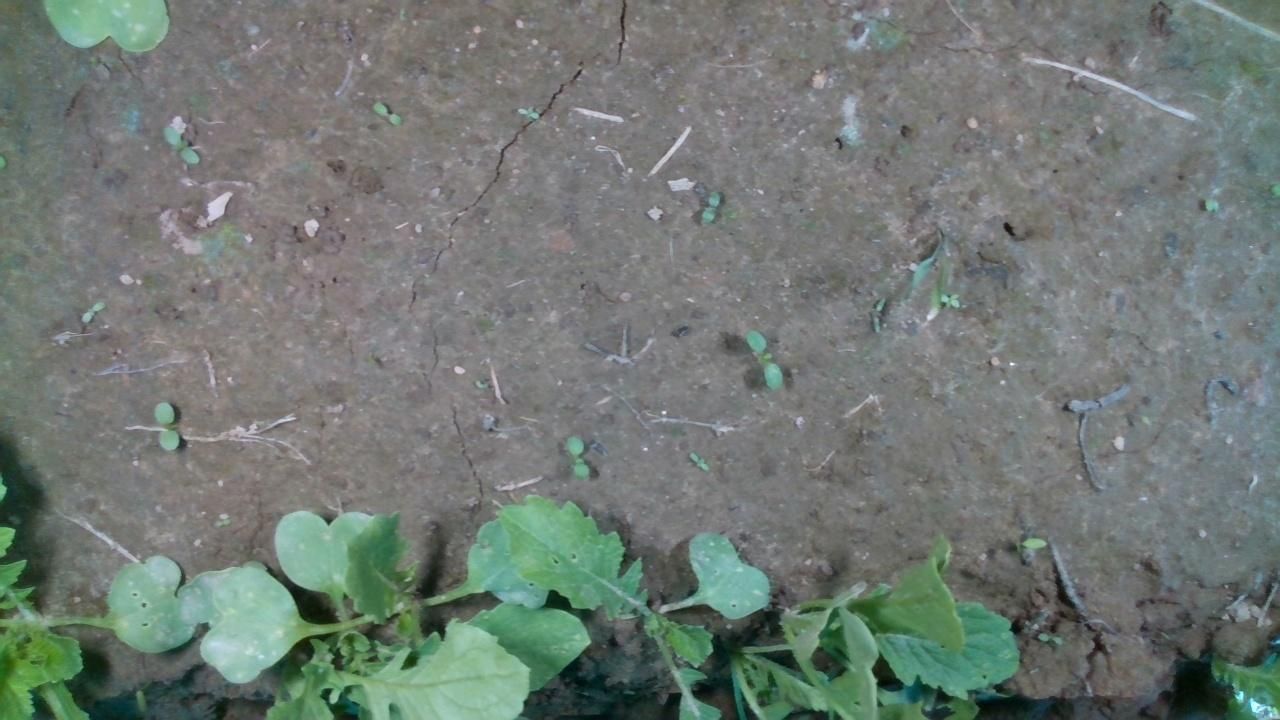weed: (742, 327, 786, 393), (686, 451, 710, 473)
